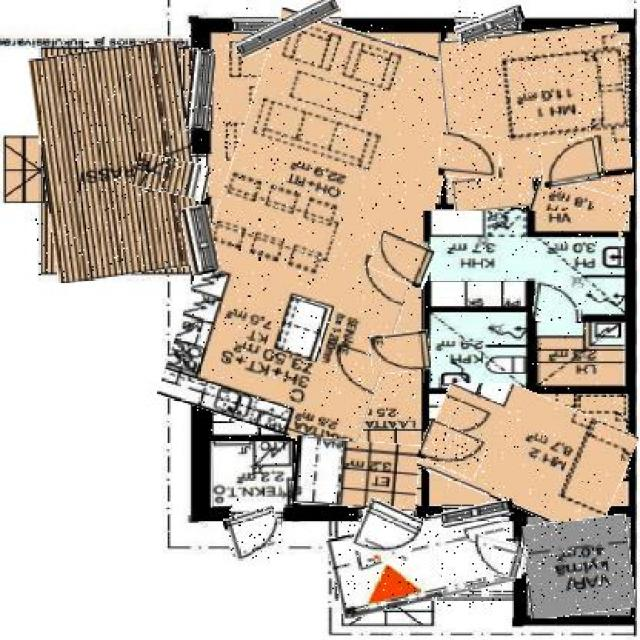door: (354, 502, 420, 564), (419, 424, 486, 476), (134, 157, 211, 197), (371, 236, 435, 284), (226, 508, 283, 558), (540, 139, 598, 186), (440, 136, 502, 178), (463, 537, 526, 575), (371, 331, 429, 372), (534, 282, 583, 323)
window: (232, 6, 342, 46), (183, 206, 217, 274), (188, 49, 214, 131), (456, 9, 524, 40), (441, 503, 514, 525)
zone: (188, 20, 449, 448), (35, 43, 200, 279), (442, 26, 630, 209), (423, 211, 619, 383), (424, 378, 630, 524), (331, 509, 512, 609), (523, 517, 634, 617), (294, 438, 420, 509), (211, 442, 292, 509), (531, 181, 629, 234)
